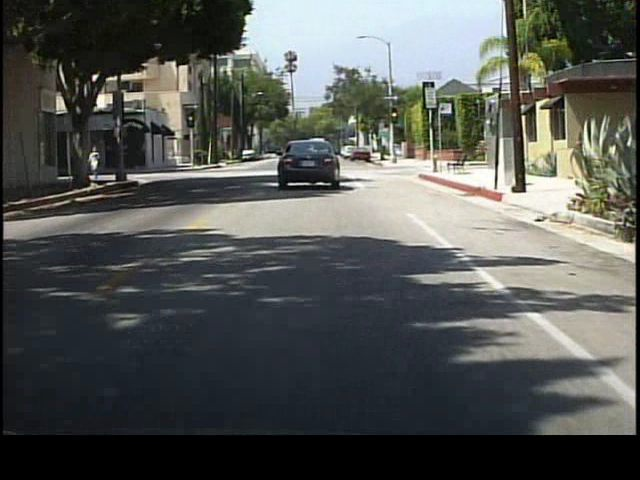person: (88, 142, 103, 184)
